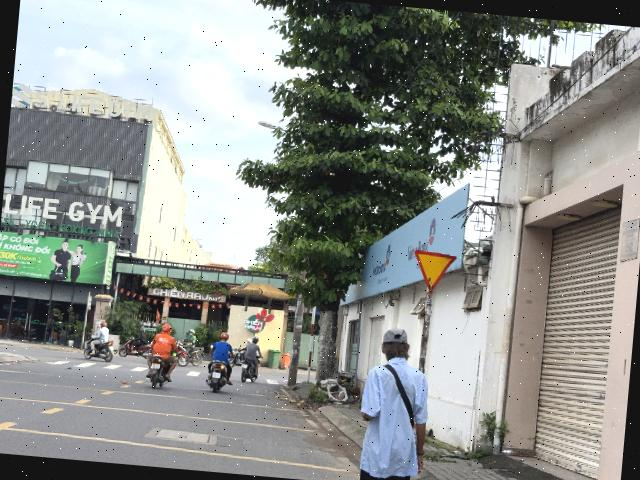giao-nhau-voi-duong-uu-tien: (410, 249, 458, 294)
